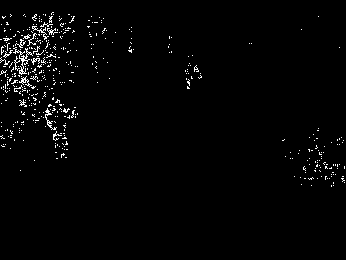person: (44, 95, 73, 161)
